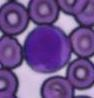M: (23, 24, 72, 74)
